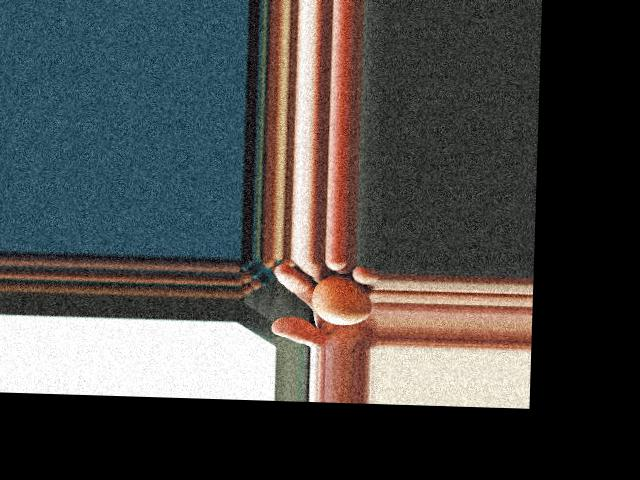egg: (311, 273, 374, 325)
